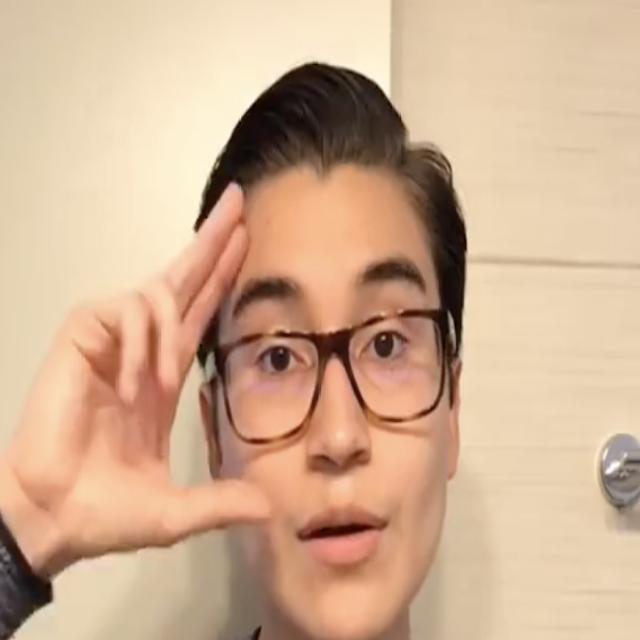hola: (10, 170, 277, 558)
